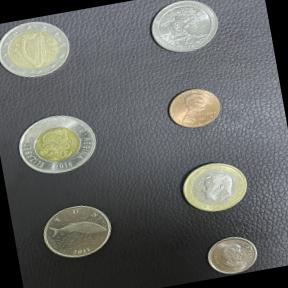1 Euro-B: (174, 154, 256, 220)
2 Euro-B: (0, 11, 80, 87)
Canada-10cent-B: (202, 228, 262, 279)
Canada-2Dollar-B: (10, 105, 105, 186)
Croatia-2Kune-B: (35, 197, 120, 267)
US-1cent-B: (162, 81, 228, 134)
US-25cent-B: (142, 0, 226, 62)
